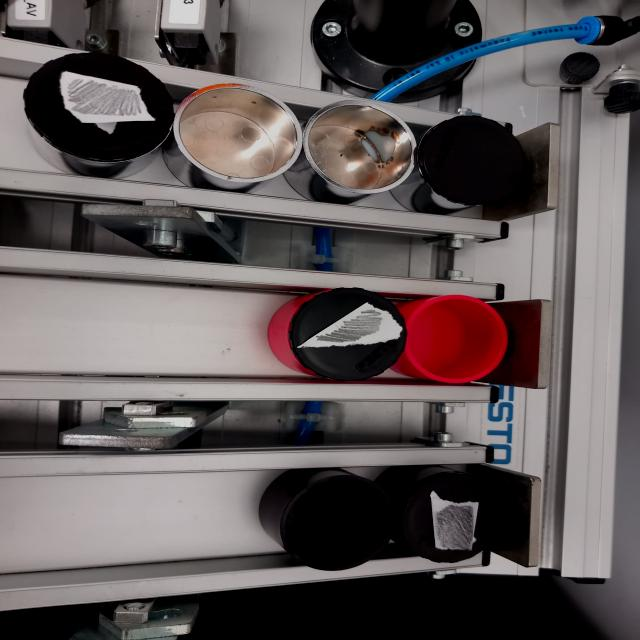NoLid: (245, 471, 398, 572), (400, 285, 517, 399), (306, 95, 413, 219), (174, 96, 299, 197)
Workpiece: (421, 102, 529, 217)
